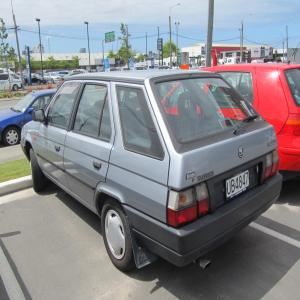Vehicle-registration-plate: (225, 172, 254, 203)
